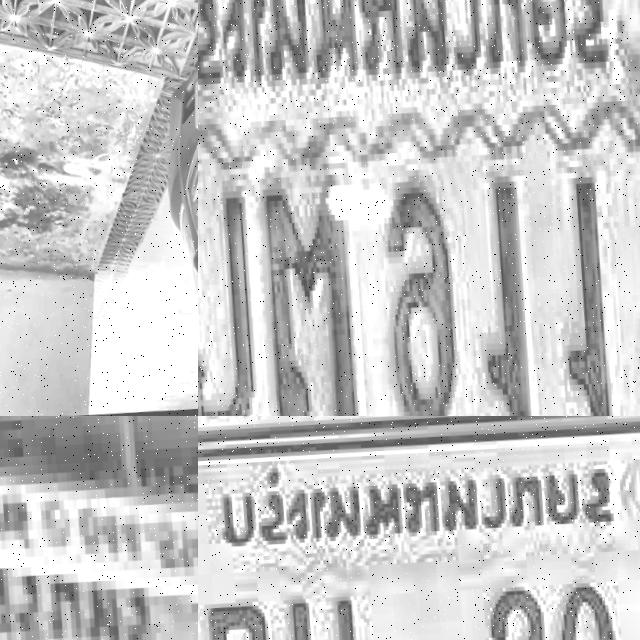license-plate: (198, 0, 640, 416), (198, 416, 640, 640), (0, 416, 198, 640), (198, 416, 640, 467), (180, 32, 198, 134)
